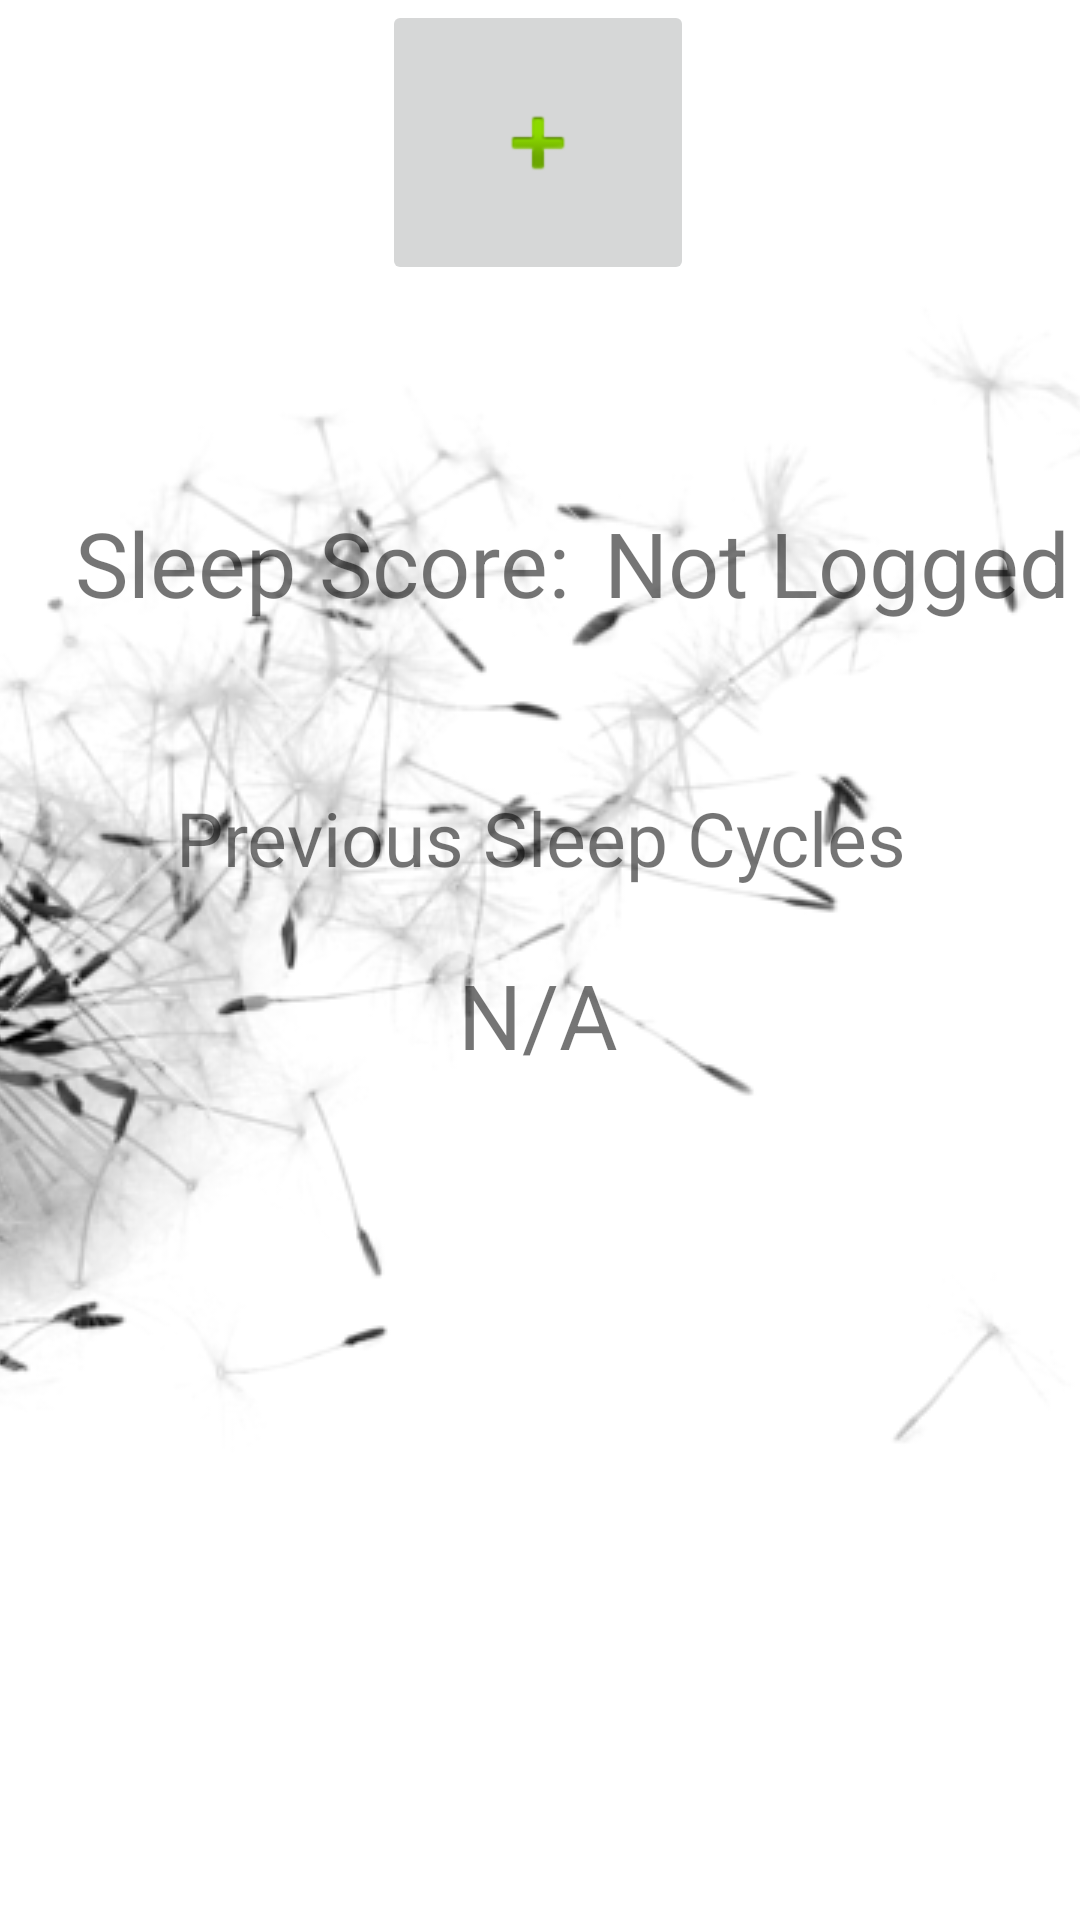

Icons on this 1080×1920 Android screen, each with the point to tap as (x=x, y=y):
add: (x=538, y=142)
